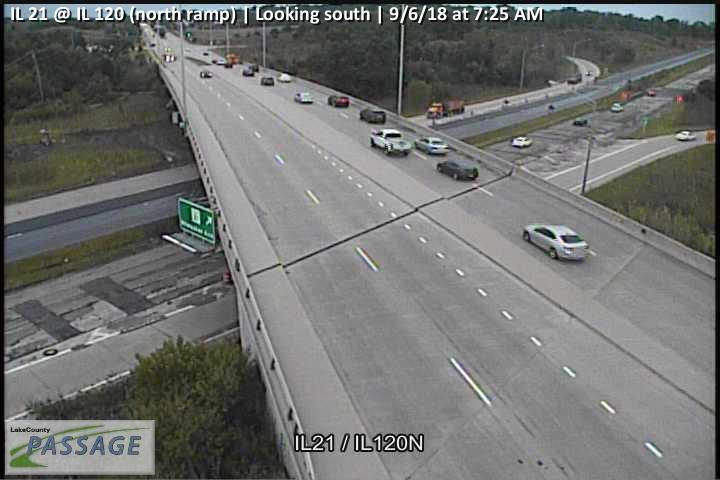SUV: (360, 107, 387, 123), (327, 93, 350, 107), (513, 136, 532, 148), (260, 76, 275, 85)
Sedan: (523, 223, 590, 261), (436, 158, 479, 180), (415, 135, 450, 155), (294, 91, 314, 103), (676, 130, 696, 141), (573, 117, 588, 125)
Truck: (370, 128, 412, 156), (426, 99, 465, 119)
